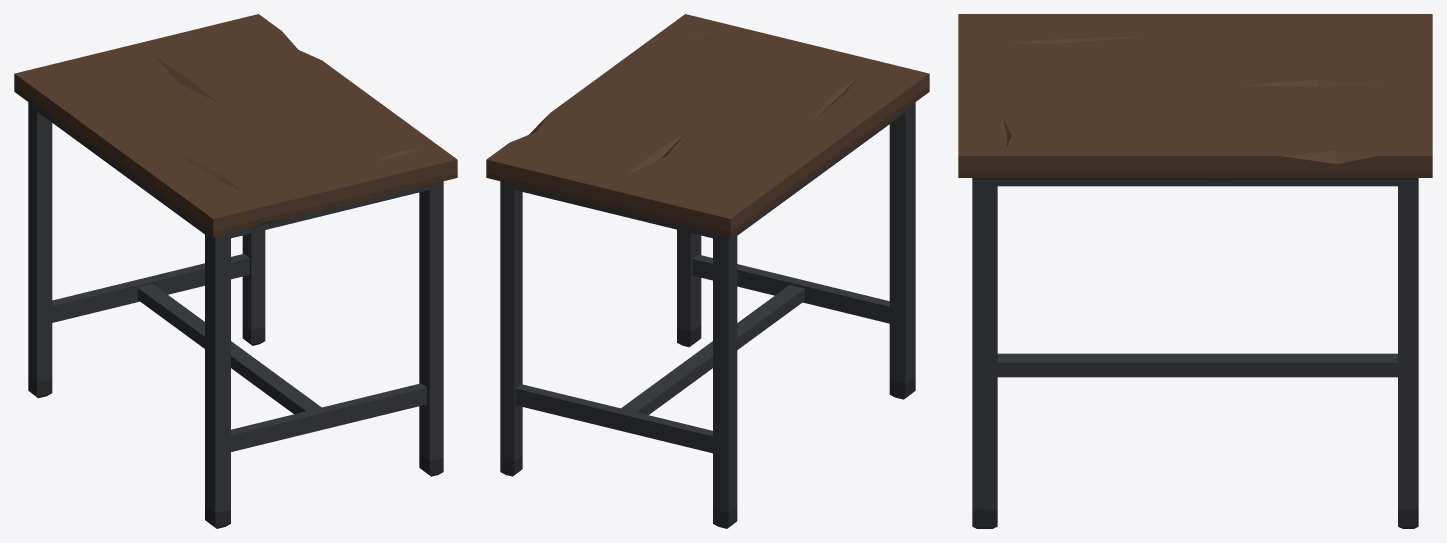
File: SM_Prop_Bar_Table_02.obj
3 renders of one model, left to right at view 1: azimuth 30°, elevation 25°; view 2: azimuth 150°, elevation 25°; view 3: azimuth 270°, elevation 25°, orthographic. The views are drawn at different scales.
Parts seen in each view (by area): view 1: SM_Prop_Bar_Table_02_0; view 2: SM_Prop_Bar_Table_02_0; view 3: SM_Prop_Bar_Table_02_0.
Part boxes in pixels (bbox=[...]): SM_Prop_Bar_Table_02_0: bbox=[14, 14, 457, 528]; SM_Prop_Bar_Table_02_0: bbox=[486, 14, 929, 528]; SM_Prop_Bar_Table_02_0: bbox=[958, 14, 1432, 528].
Bounding box in the file's own units: 0.8864 × 1.1 × 1.25.
1 material, 1 textured.
